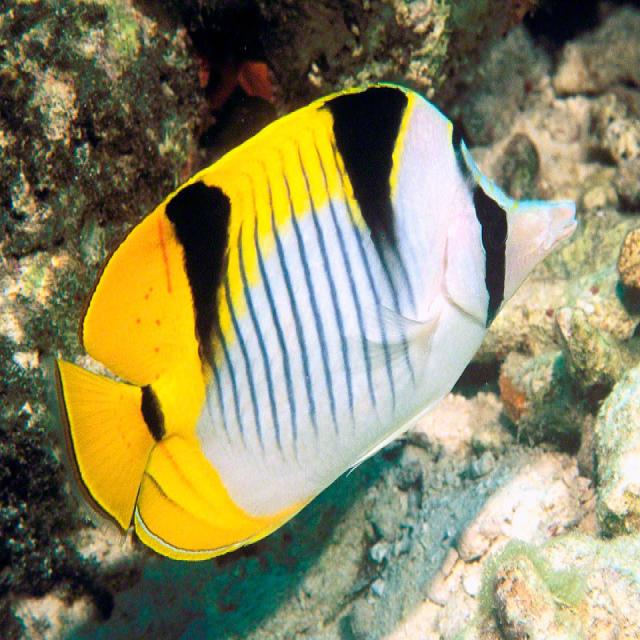ButterflyFish: (59, 83, 584, 561)
